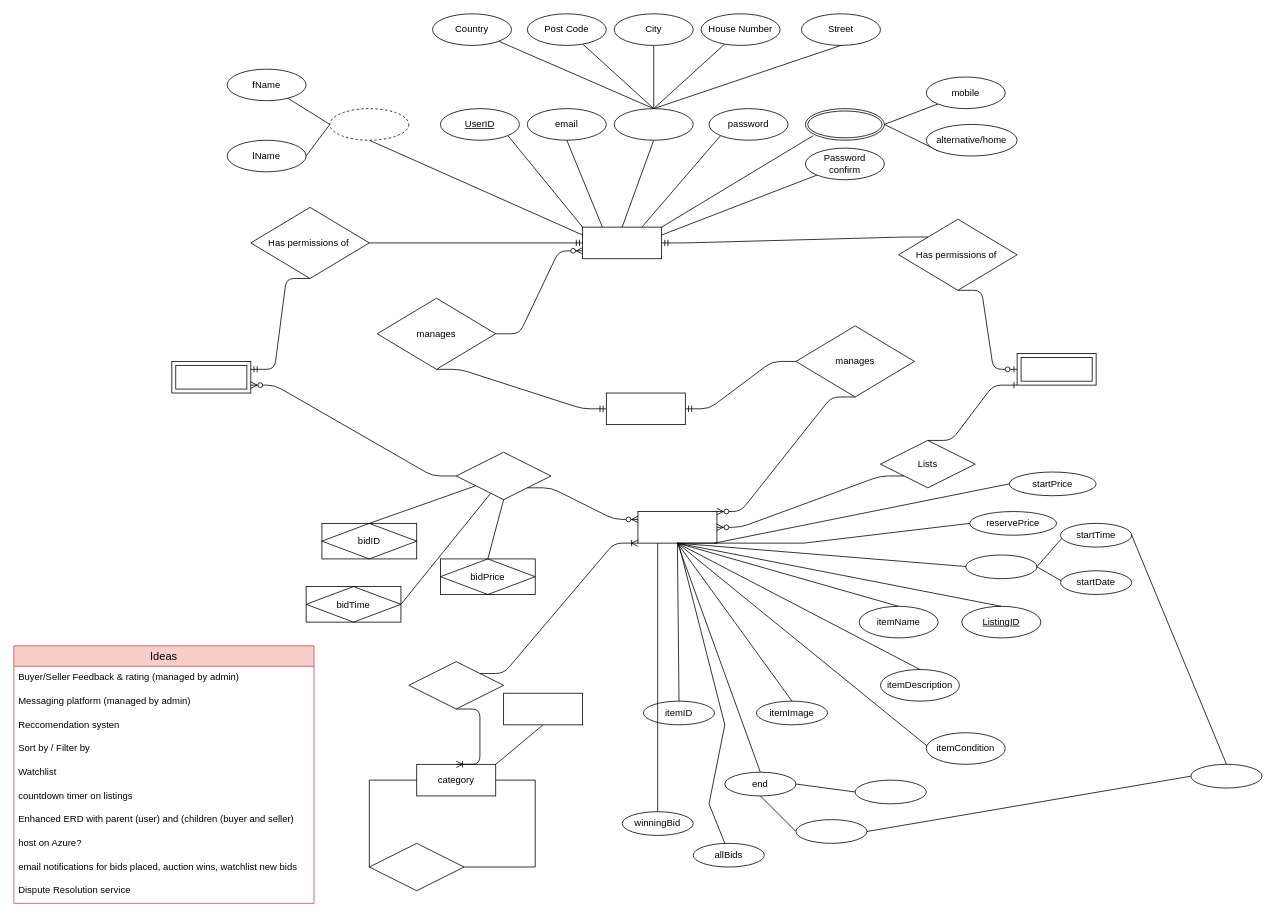
Image size: 1276x920. Some labels were removed from this diagram. Here are the shapes that lost their labels. From the top down, the centre of each, then its label:
the point at 369,124: name
the point at 653,124: homeAddress
the point at 844,124: phoneNumber
the point at 622,242: User
the point at 211,377: Buyer
the point at 1056,369: Seller
the point at 645,408: admin
the point at 503,475: Bids/buys
the point at 677,527: Listing
the point at 1001,566: start
the point at 456,685: Belongs to
the point at 543,708: categoryName
the point at 890,791: endDate
the point at 1226,776: timeRemaining
the point at 831,831: endTime
the point at 416,867: is part of
